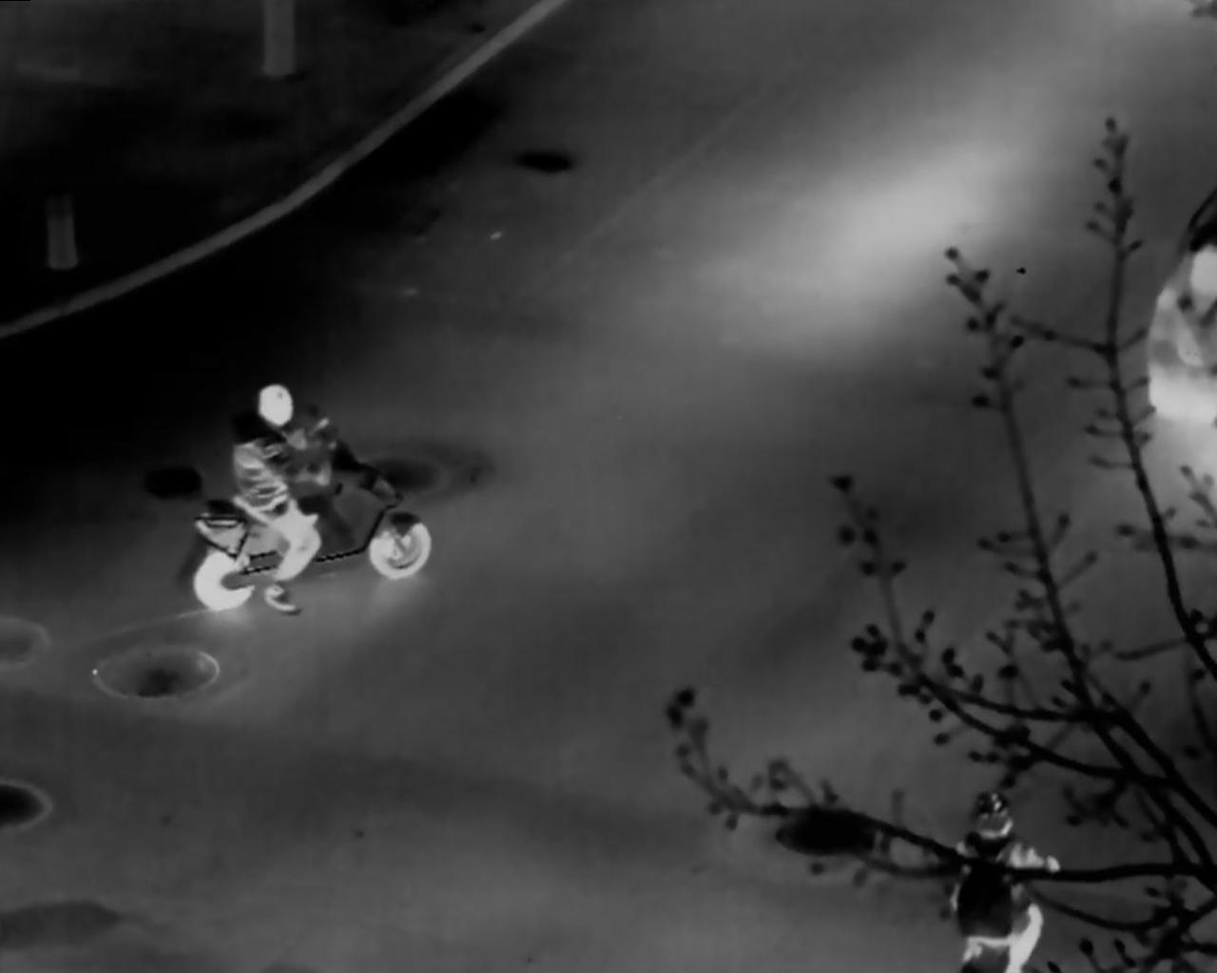person: (232, 381, 330, 616), (950, 789, 1060, 973)
